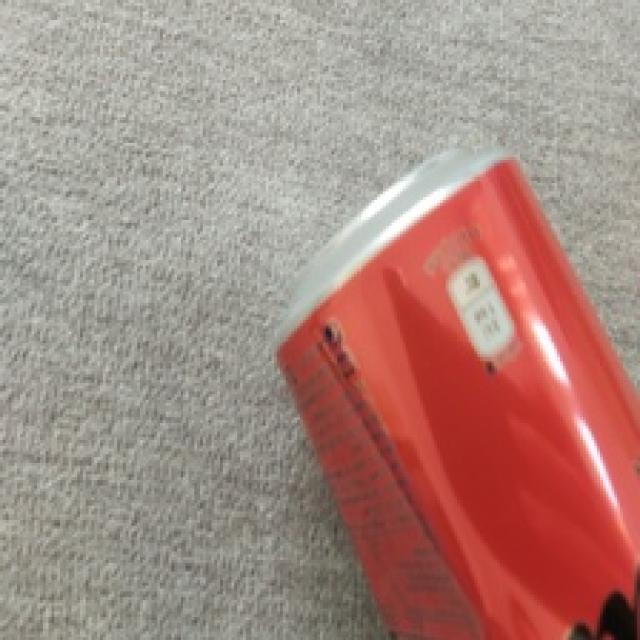recyclable: (272, 136, 640, 640)
